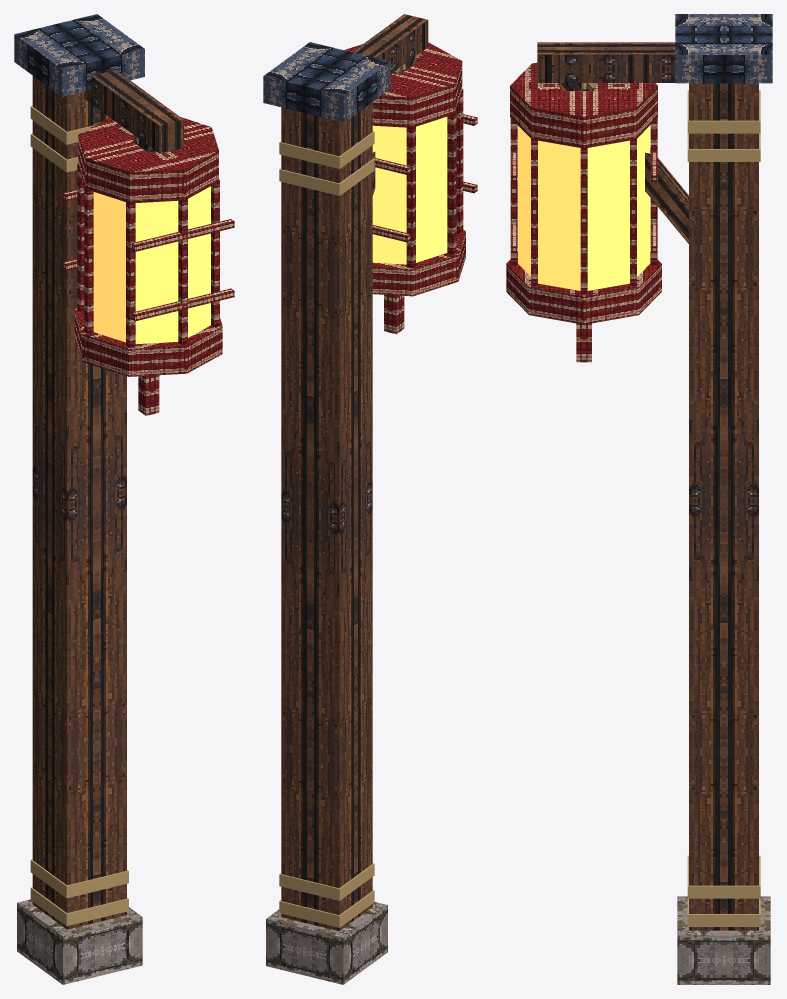
The model's file is streetlamp.glb.
3 views of the same model, side by side, from view 1: azimuth 30°, elevation 25°; view 2: azimuth 150°, elevation 25°; view 3: azimuth 270°, elevation 25° (orthographic). The views are drawn at different scales.
Parts seen in each view (by area): view 1: streetlamp_canal_wood, streetlamp_canal_red, streetlamp_canal_paper, streetlamp_canal_roof, streetlamp_canal_stone, streetlamp_canal_brass; view 2: streetlamp_canal_wood, streetlamp_canal_red, streetlamp_canal_paper, streetlamp_canal_roof, streetlamp_canal_stone, streetlamp_canal_brass; view 3: streetlamp_canal_wood, streetlamp_canal_red, streetlamp_canal_paper, streetlamp_canal_roof, streetlamp_canal_stone, streetlamp_canal_brass.
Part boxes in pixels (x1,y1,x2,y2): streetlamp_canal_wood: [32, 70, 183, 929]; streetlamp_canal_red: [62, 117, 234, 415]; streetlamp_canal_paper: [93, 186, 210, 344]; streetlamp_canal_roof: [14, 14, 144, 96]; streetlamp_canal_stone: [17, 899, 142, 984]; streetlamp_canal_brass: [30, 106, 138, 926]; streetlamp_canal_wood: [281, 14, 428, 931]; streetlamp_canal_red: [344, 42, 477, 334]; streetlamp_canal_paper: [372, 117, 447, 264]; streetlamp_canal_roof: [263, 42, 390, 122]; streetlamp_canal_stone: [266, 902, 387, 984]; streetlamp_canal_brass: [279, 64, 405, 927]; streetlamp_canal_wood: [537, 42, 758, 930]; streetlamp_canal_red: [506, 62, 661, 362]; streetlamp_canal_paper: [518, 125, 650, 290]; streetlamp_canal_roof: [675, 14, 772, 83]; streetlamp_canal_stone: [677, 896, 770, 984]; streetlamp_canal_brass: [581, 83, 760, 926].
Bounding box in the file's own units: 0.4 × 2.64 × 0.685.
Materials: 6 (4 with a texture image).
